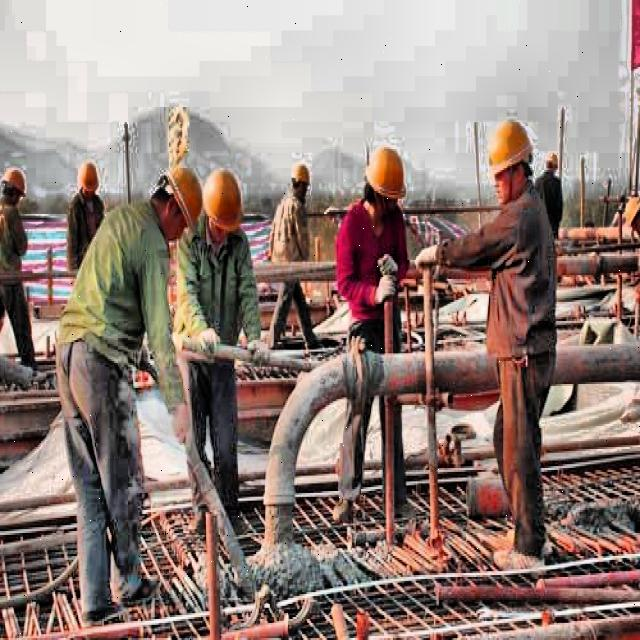helmet: (484, 111, 534, 214), (360, 138, 411, 234), (150, 158, 206, 236), (202, 164, 246, 250), (71, 157, 101, 210), (1, 166, 27, 224), (286, 156, 312, 202)
